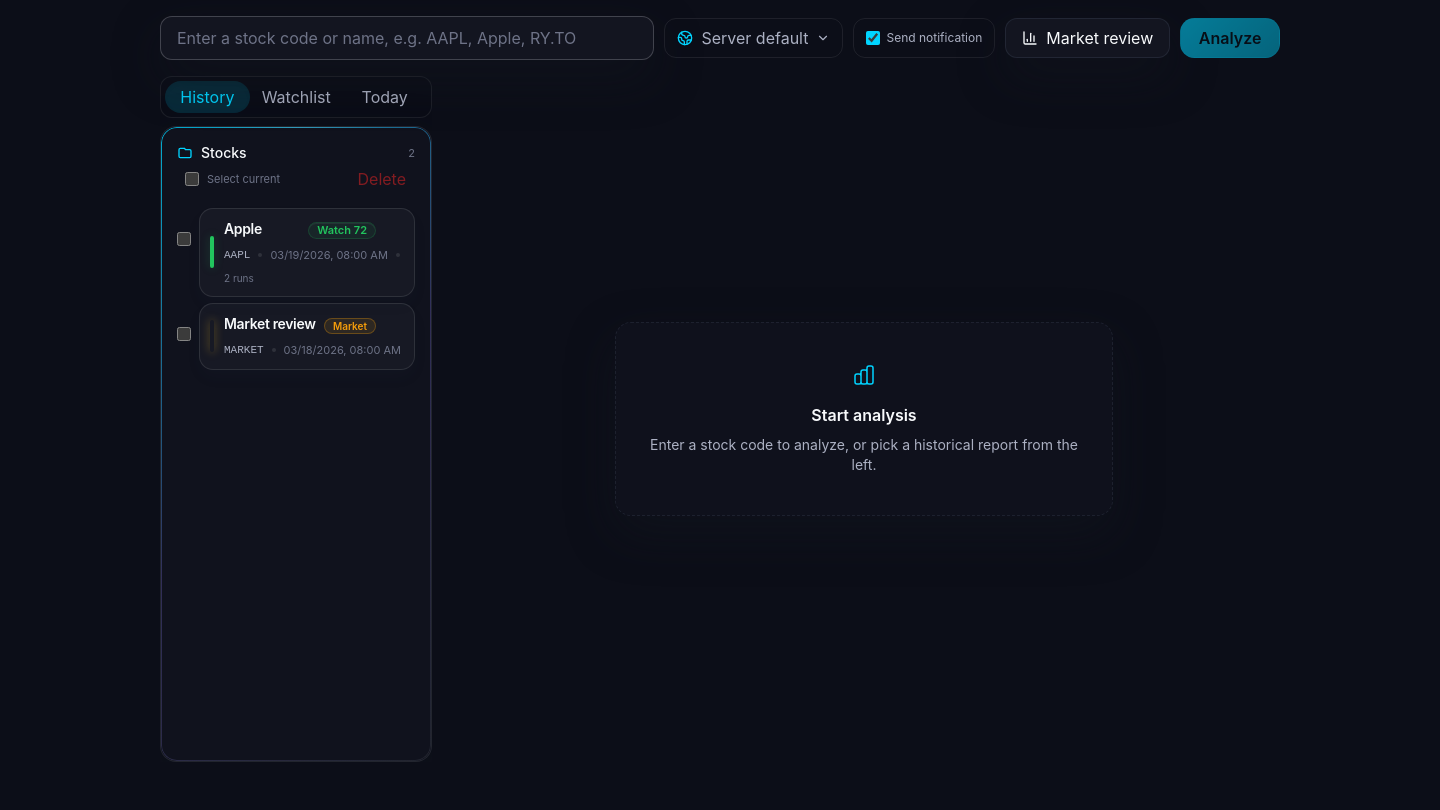
it: HomePage › shows market review history in the stock bar
expect the text "Market review history" is not shown: met
Click the button "Market review Market MARKET 03/18/2026, 08:00 AM".
click(307, 336)  # box [199,303,415,370]
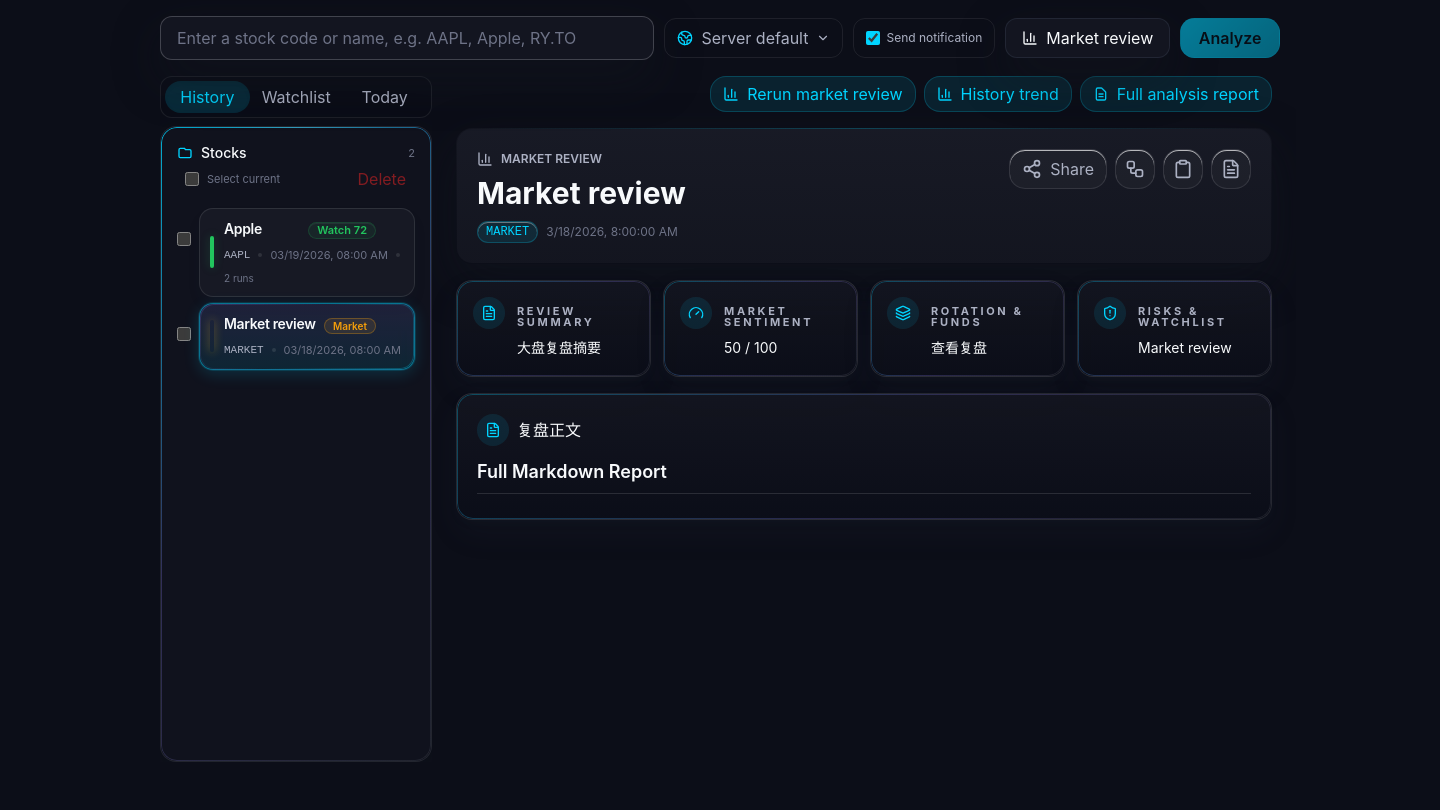
expect the text "大盘复盘摘要" is shown: met, box [517,338,601,356]
